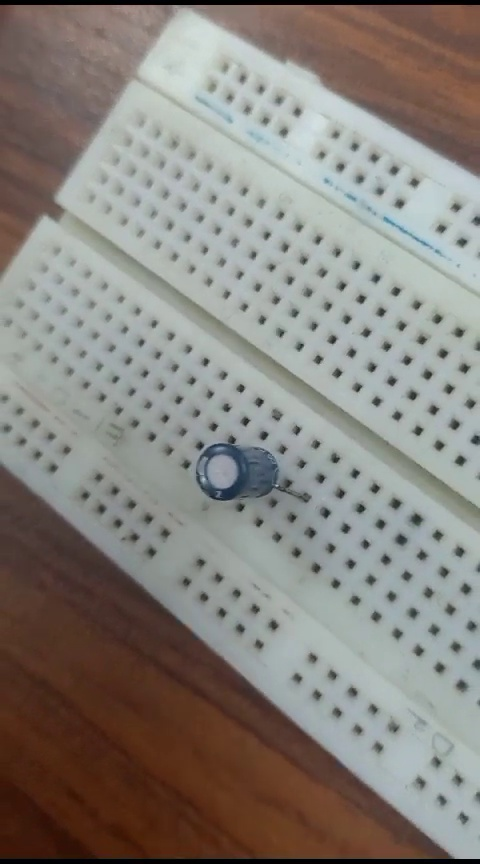capacitor: (189, 432, 308, 505)
